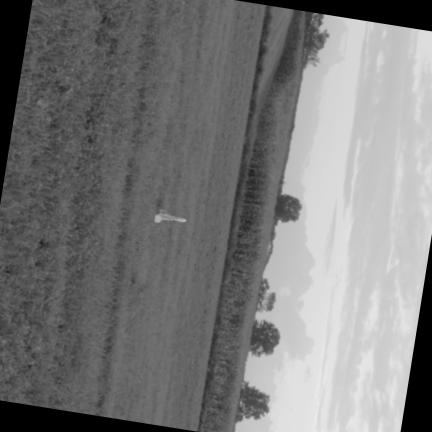Shahed: (154, 209, 184, 222)
